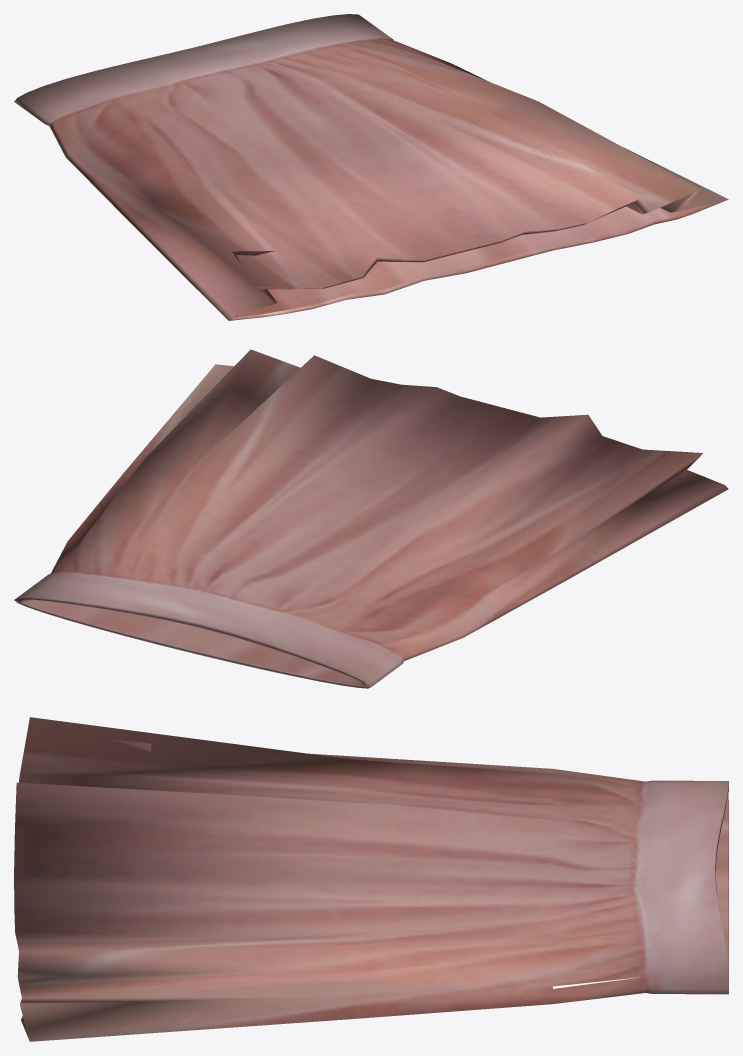
File: sweethome3d-scopia-skirt-242.glb
The picture shows the model from 3 angles, top to bottom: view 1: azimuth 30°, elevation 25°; view 2: azimuth 150°, elevation 25°; view 3: azimuth 270°, elevation 25°; orthographic projection. The views are drawn at different scales.
Visible parts, largest first — view 1: Circle_Circle.001; view 2: Circle_Circle.001; view 3: Circle_Circle.001.
Part boxes in pixels (<box>): Circle_Circle.001: <box>14,14,728,320</box>; Circle_Circle.001: <box>14,349,728,688</box>; Circle_Circle.001: <box>14,717,728,1041</box>.
Bounding box in the file's own units: 40.74 × 3.62 × 40.63.
1 material, 1 textured.
